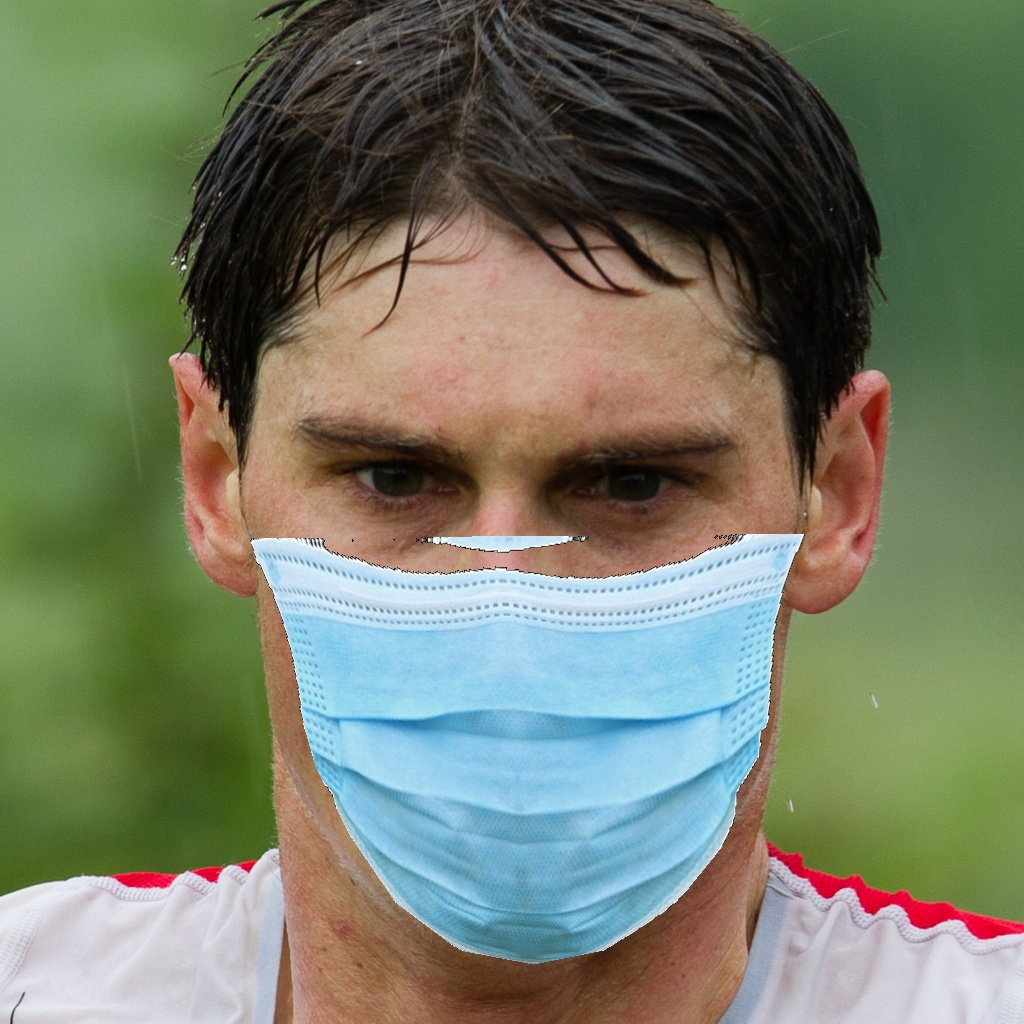Mask: (245, 343, 807, 970)
